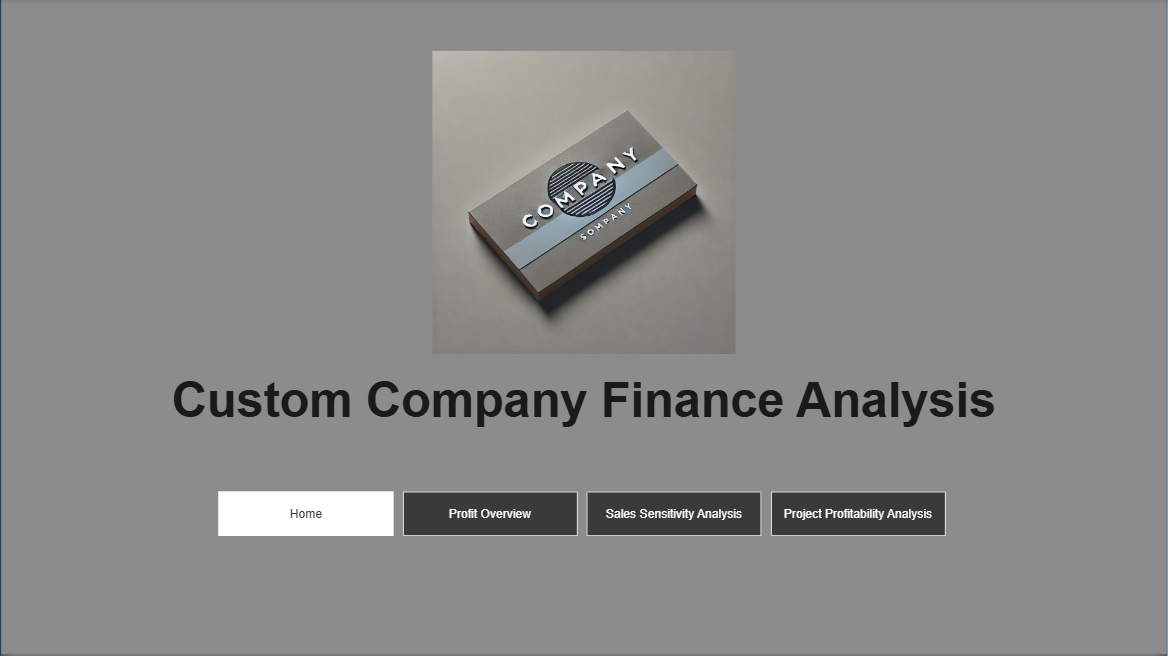

The dashboard page shown, as its layout file describes it:
{"tool":"powerbi","page":{"name":"Home","canvas":[1280,720],"ordinal":0},"visuals":[{"type":"shape","box":[0,0,1280,719.8],"z":0},{"type":"pageNavigator","box":[239.3,540.8,800.5,49.6],"z":1000},{"type":"image","box":[0,52.5,1280,342.4],"z":2000},{"type":"textbox","box":[173.1,404.6,933.7,73.9],"z":3000}]}

Visuals, with their boxes in screenshot pixels (x1, y1, x2, y2), scaled from the page's 1280x720 canvas onto the 1168x656 screenshot:
shape: bbox=(0, 0, 1167, 655)
pageNavigator: bbox=(218, 493, 949, 538)
image: bbox=(0, 48, 1167, 360)
textbox: bbox=(158, 369, 1010, 436)
